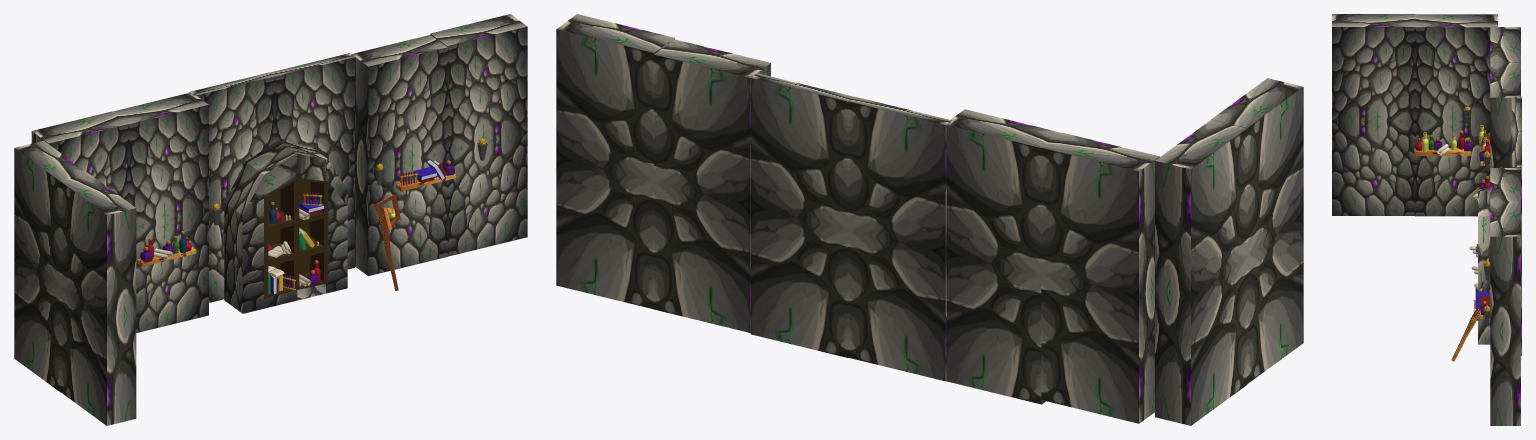
The model's file is EscenarioLaboratorio 1.fbx.
The picture shows the model from 3 angles, left to right: view 1: azimuth 30°, elevation 25°; view 2: azimuth 150°, elevation 25°; view 3: azimuth 270°, elevation 25°; orthographic projection. The views are drawn at different scales.
Visible parts, largest first — view 1: Cube.010; view 2: Cube.010; view 3: Cube.010.
Part boxes in pixels (left/top/right/bottom): Cube.010: left=14, top=14, right=527, bottom=425; Cube.010: left=556, top=14, right=1303, bottom=425; Cube.010: left=1332, top=14, right=1521, bottom=425.
Size of the model in its own units: 14974 by 5980 by 5391.
